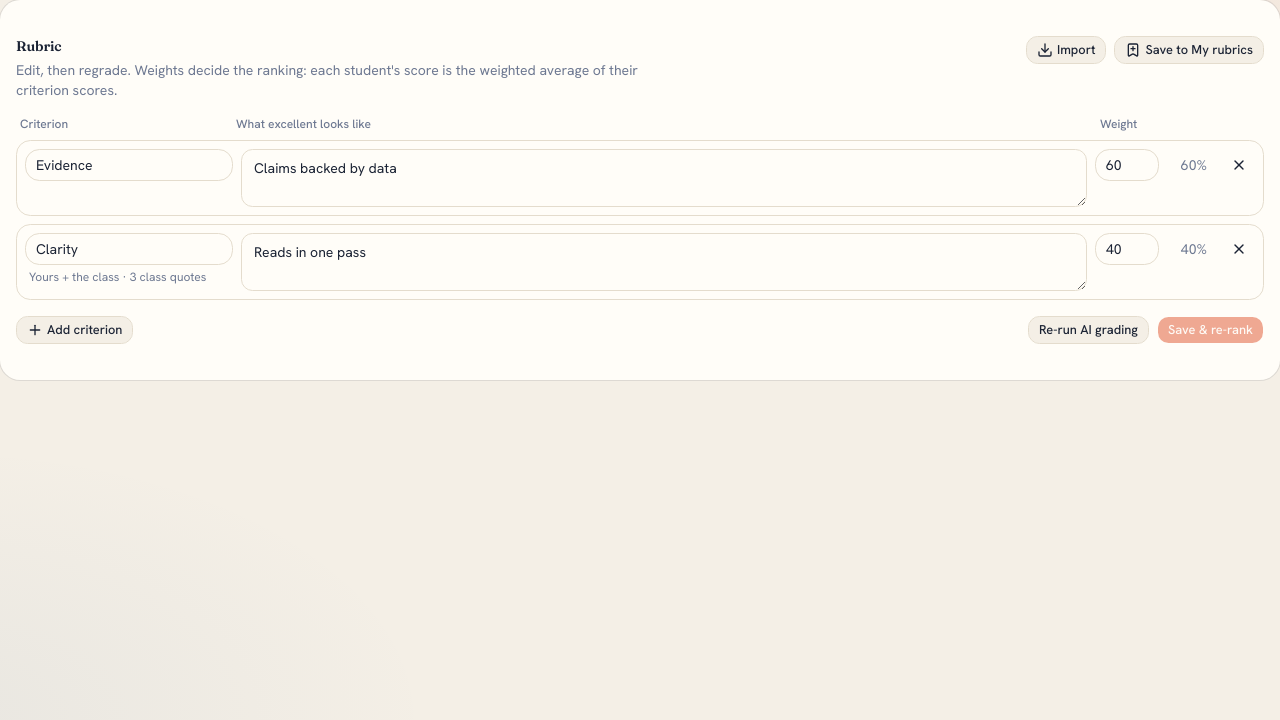
Test: RubricGrid › an owned order is warned about even for a weights-only re-rank
The width and height of the screenshot is (1280, 720).
Replace the text in the number field named "Criterion 1 weight" with "20" at (1127, 165), box [1095,149,1159,181]
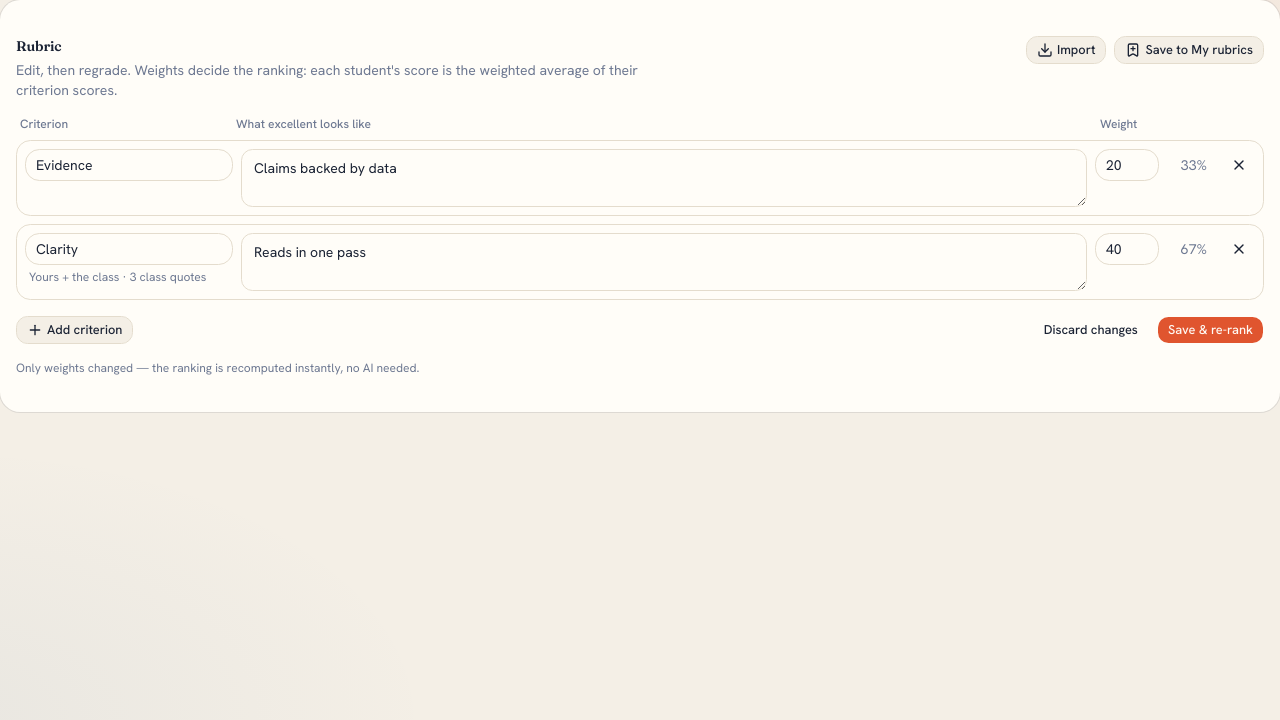
Click the button "Save & re-rank" at (1210, 330), box [1157,316,1264,344]
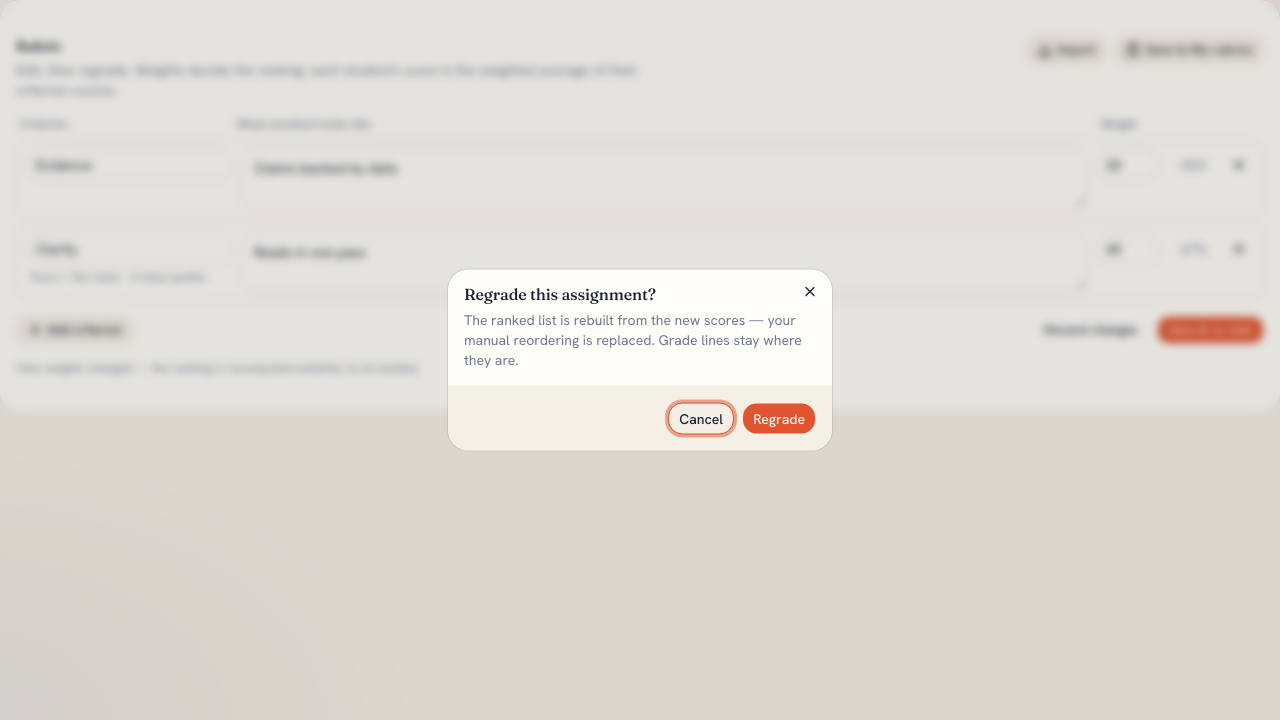
Now the text "manual reordering is replaced" is shown, box [464,310,802,368]
